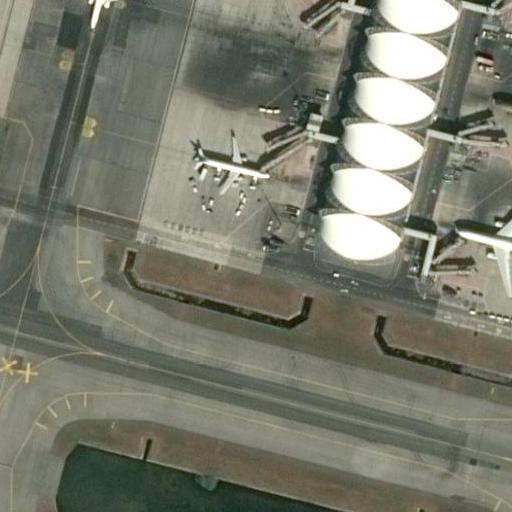Aircraft: (453, 183, 512, 297), (189, 129, 269, 199), (487, 65, 512, 165), (59, 0, 134, 31)
